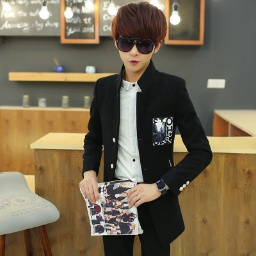face: (113, 1, 168, 70)
